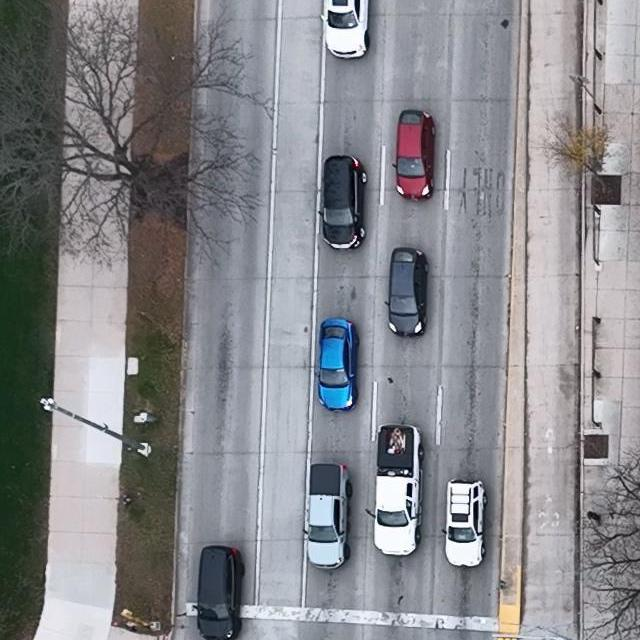car: (365, 423, 424, 557), (302, 463, 353, 570), (192, 545, 245, 640), (317, 154, 367, 249), (315, 317, 359, 413), (442, 478, 487, 568), (392, 110, 435, 201), (385, 248, 428, 337), (320, 0, 370, 60)
